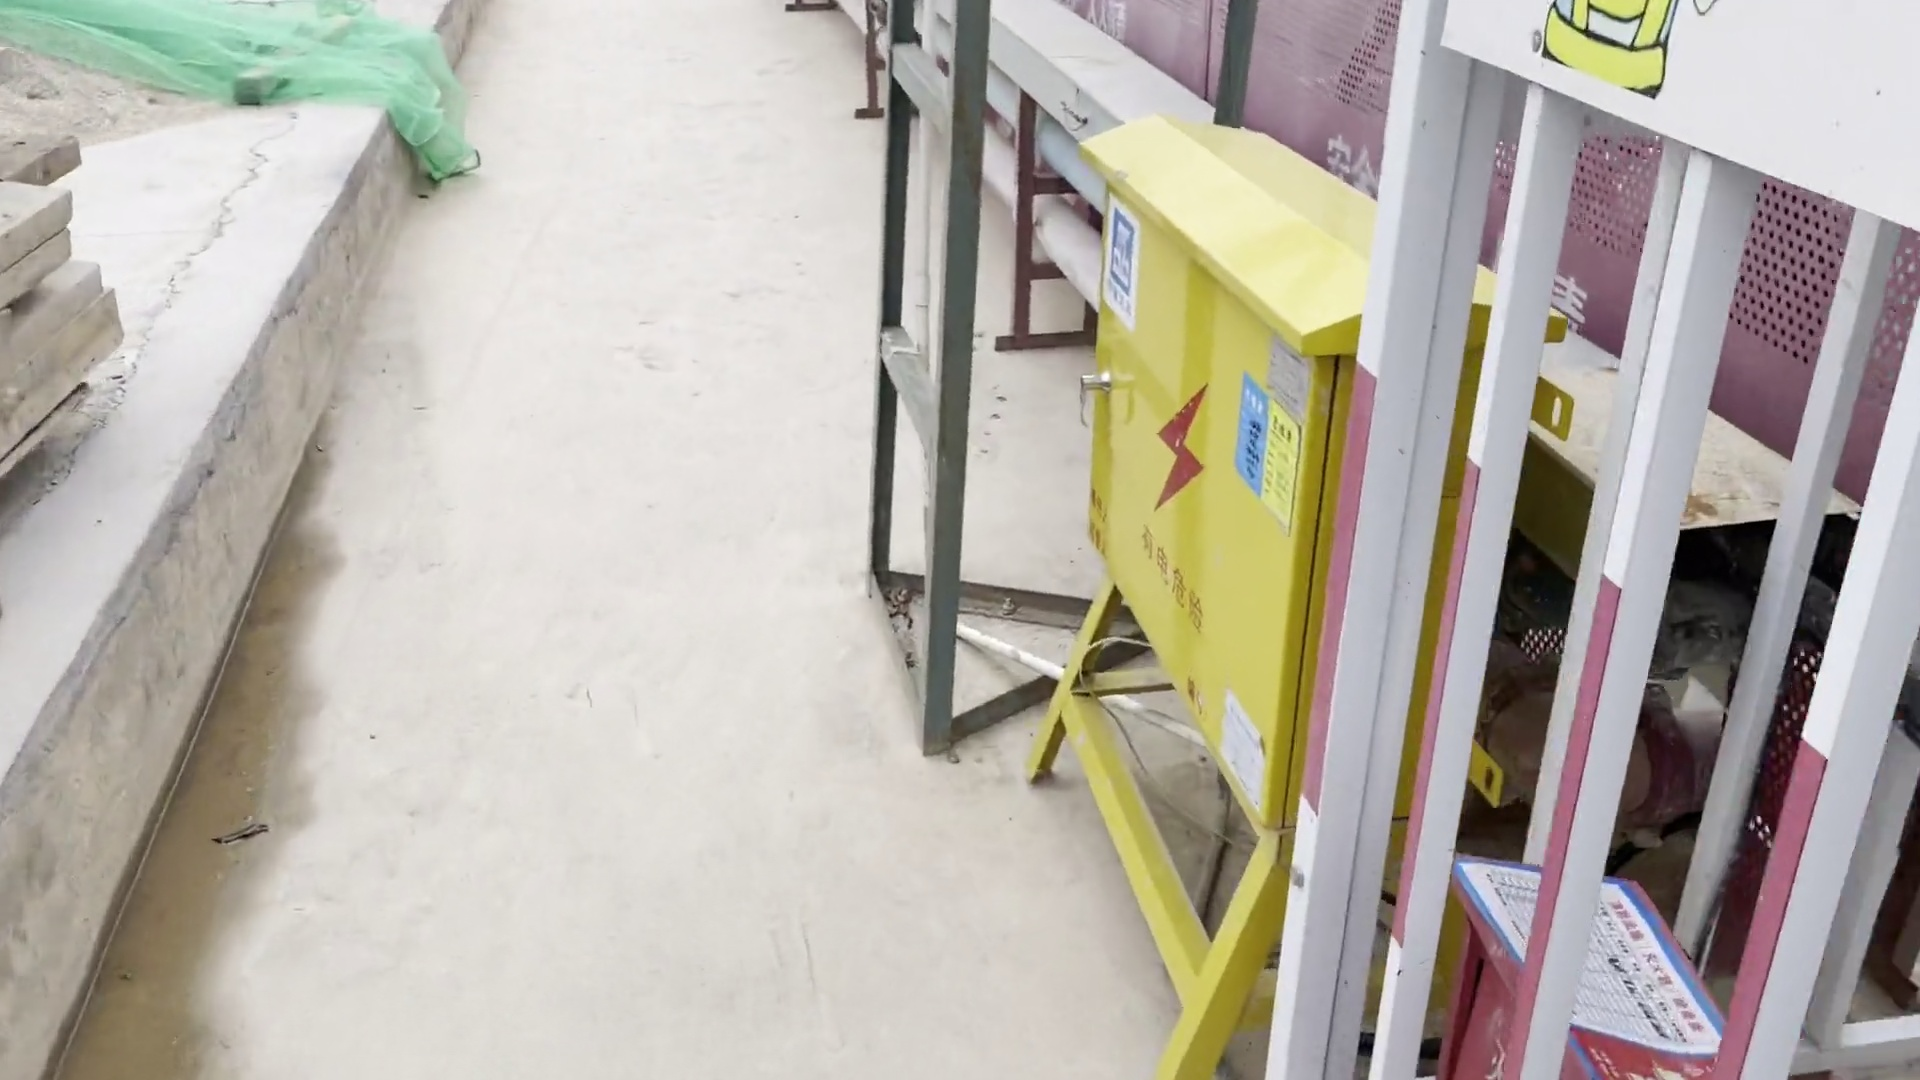ebox: (1015, 84, 1578, 1080)
fence: (1062, 3, 1920, 516)
slogan: (1462, 820, 1733, 1068), (1490, 3, 1764, 149), (1084, 204, 1163, 342)
wood: (1, 123, 156, 527)
